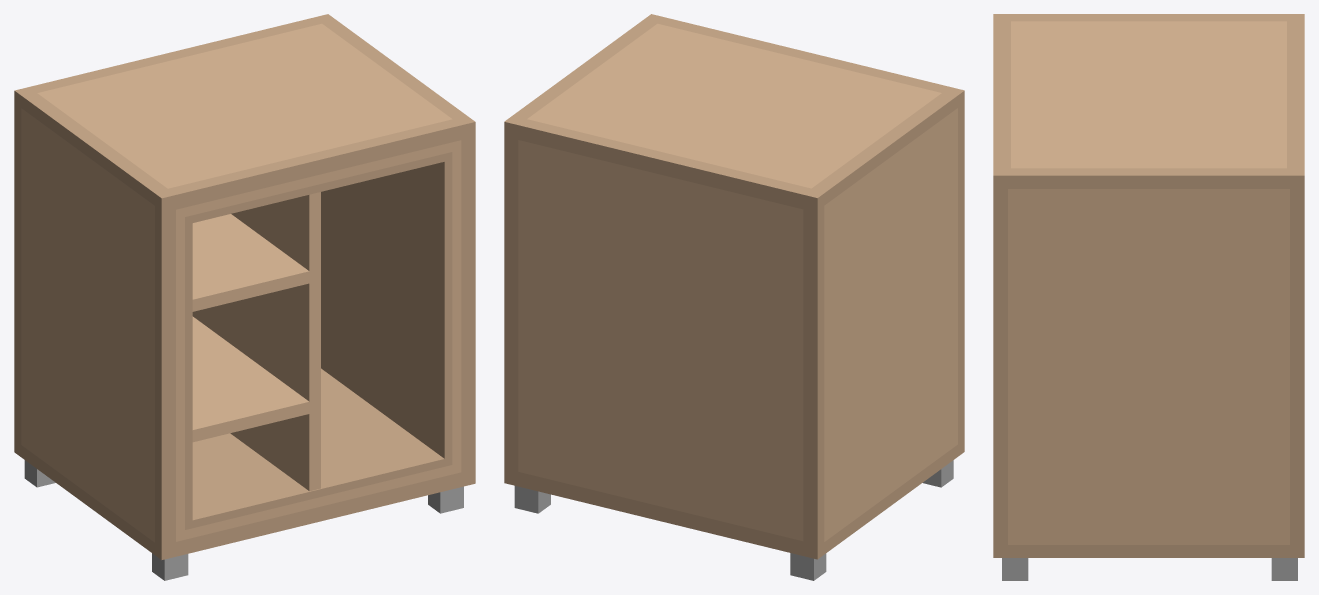
Rendered from pedestal2.fbx.
The picture shows the model from 3 angles, left to right: view 1: azimuth 30°, elevation 25°; view 2: azimuth 150°, elevation 25°; view 3: azimuth 270°, elevation 25°; orthographic projection. The views are drawn at different scales.
Visible parts, largest first — view 1: Cube_9; view 2: Cube_9; view 3: Cube_9.
Part boxes in pixels (x1=…): Cube_9: x1=14, y1=14, x2=475, y2=580; Cube_9: x1=504, y1=14, x2=964, y2=580; Cube_9: x1=993, y1=14, x2=1304, y2=580.
Bounding box in the file's own units: 19.51 × 23 × 15.87.
